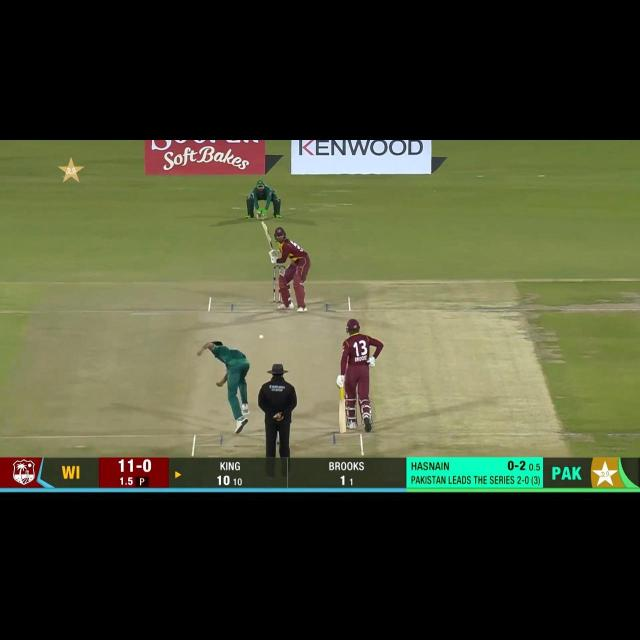bat: (261, 221, 274, 251), (339, 398, 346, 434)
toe: (339, 429, 347, 434), (261, 222, 267, 228)
